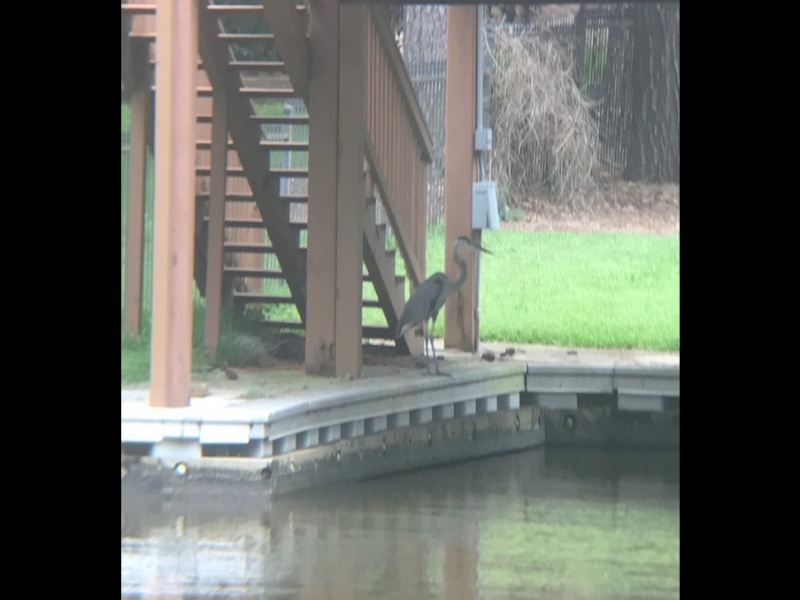heron: (391, 230, 490, 385)
